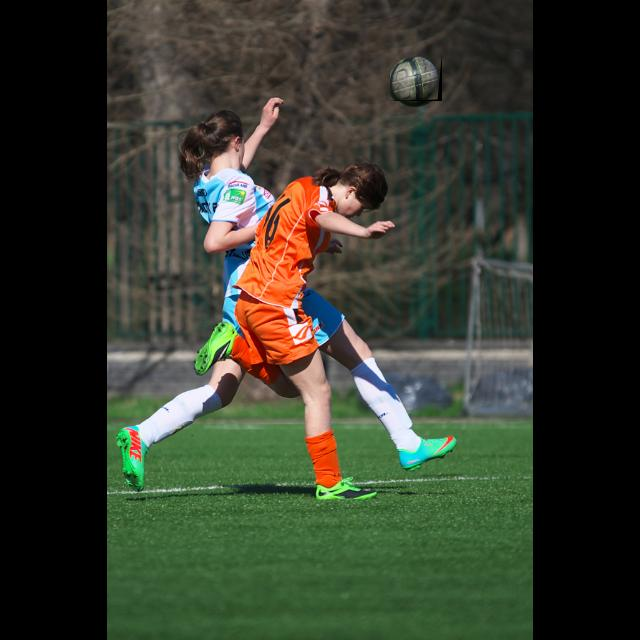Football: (390, 55, 442, 101)
